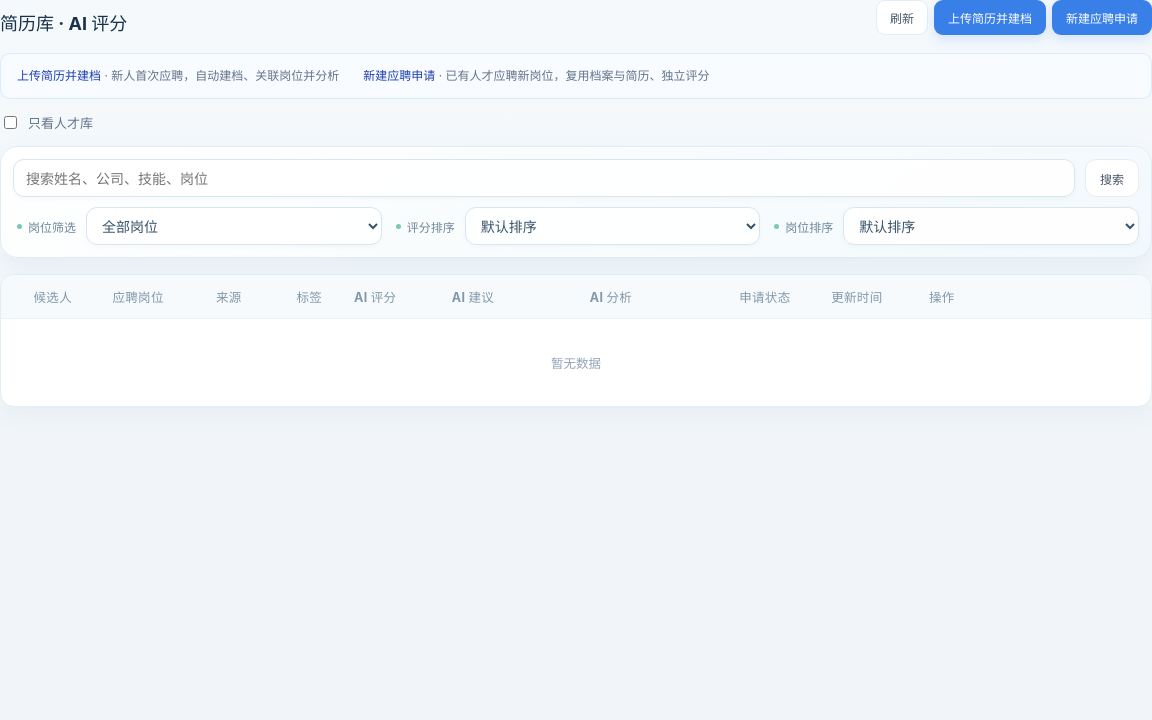
Scenario: CandidateListPage resume upload › opens the new application form in a modal
Click the button "新建应聘申请". click: point(1102, 18)
box: [1052,0,1151,35]
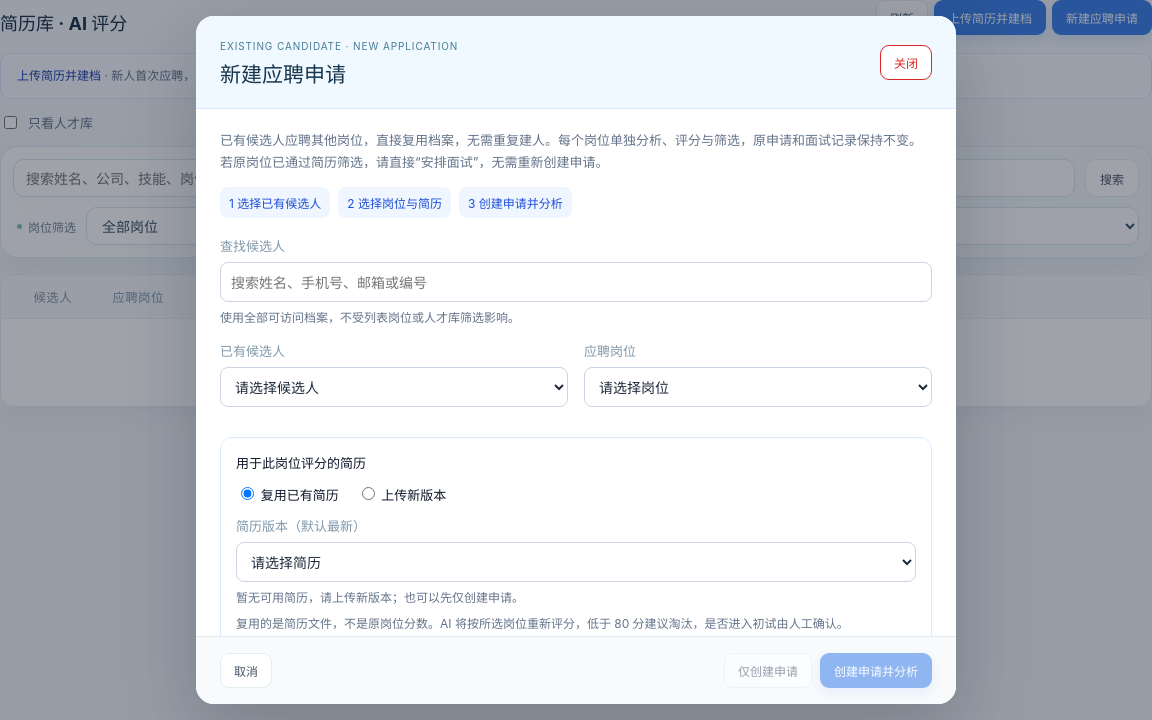
Check: the element with class "overlay" is shown
Check: the heading "新建应聘申请" is shown, box [220,62,346,87]
